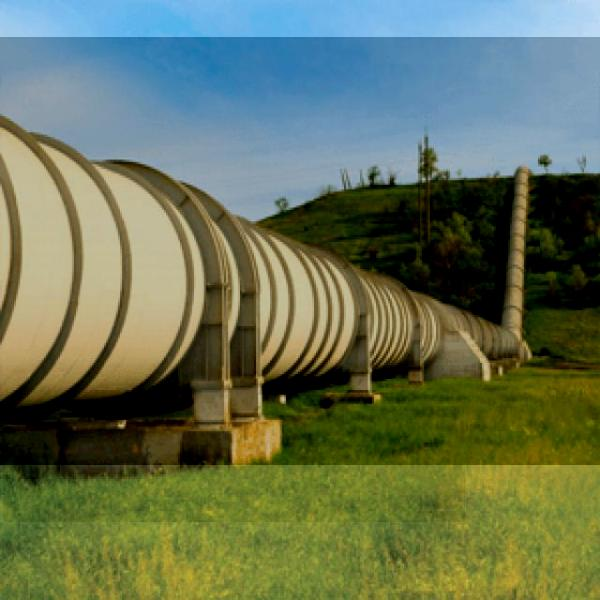no leak: (0, 37, 600, 465), (3, 40, 465, 522)
